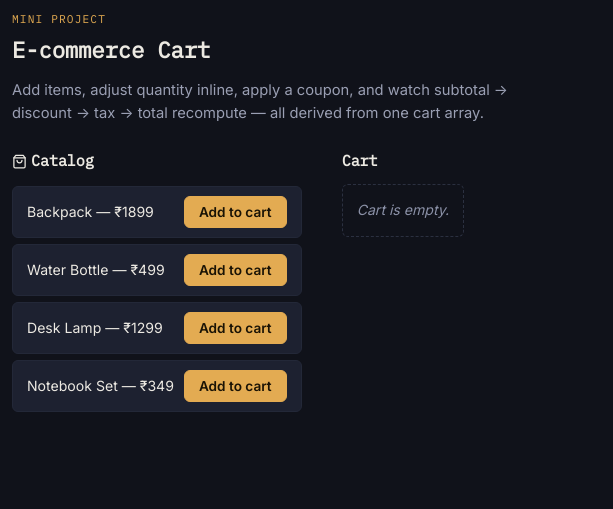
Scenario: Task20_EcommerceCart › removes an item from the cart
What coordinates should you click on to do the following:
click the button "Add to cart" in the row of "Backpack"
I would click on:
 (235, 212)
Its box is [184,196,287,228].
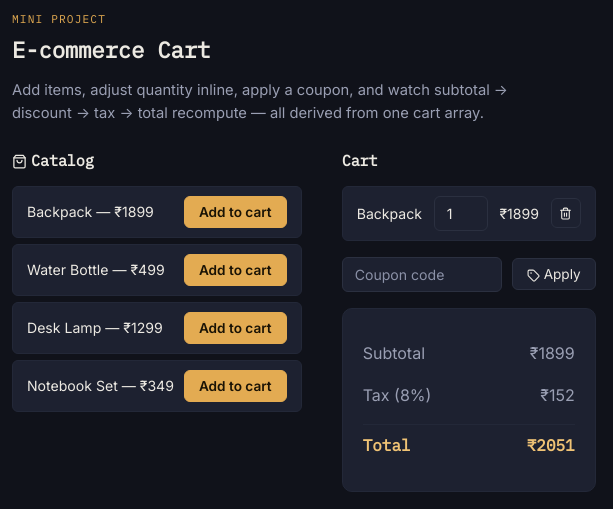
What coordinates should you click on to do the following:
click the button named "Remove Backpack"
I would click on:
 (566, 213)
Its box is [551,198,581,228].
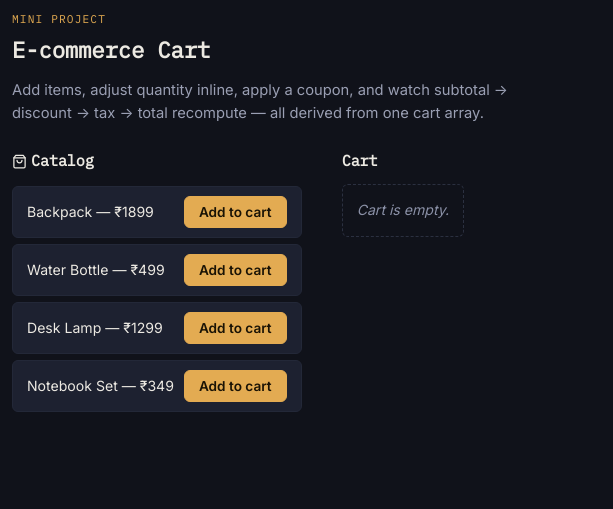
Now the text "Cart is empty." is shown, box [342,184,464,236]
